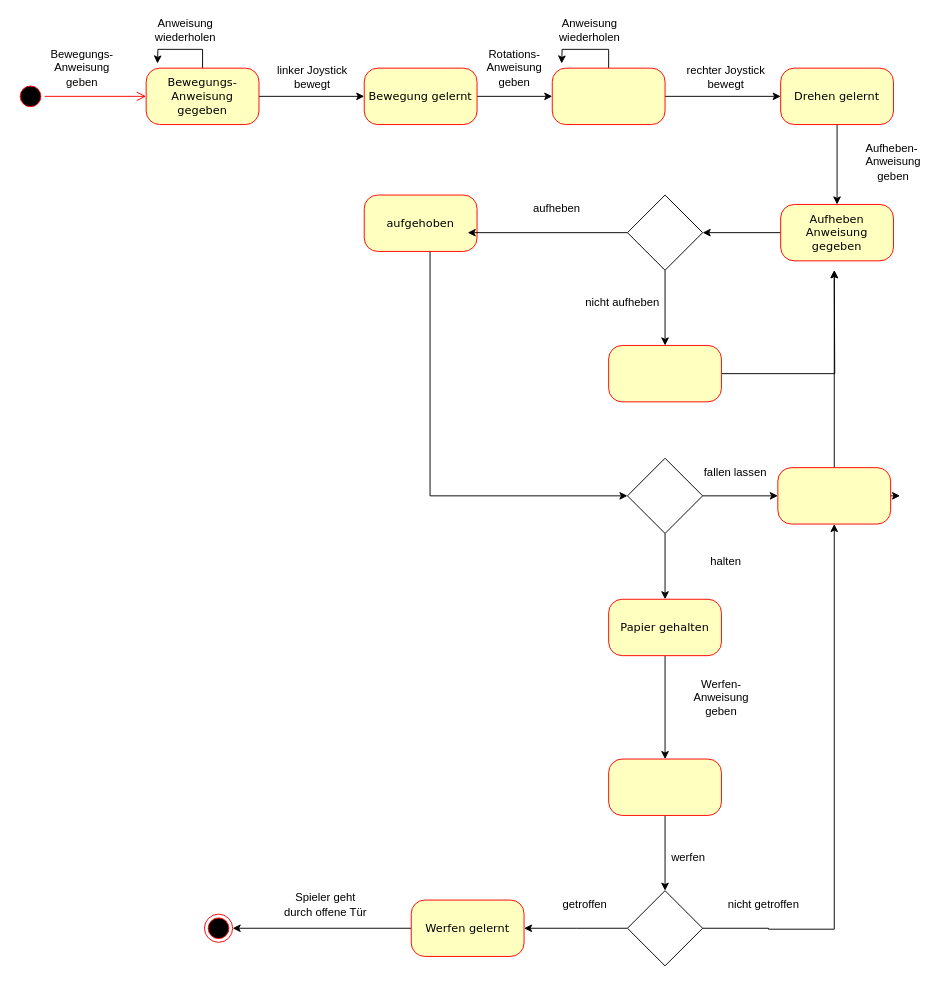
Some shapes in this 938 by 982 pixel diagram are drawn without their labels. The shapes that lost their labels are listed below. From the top down, each one's centre as x and y in pixels, then its label:
At (x=608, y=96): "Rotations-Anweisung gegeben".
At (x=664, y=373): "am Tisch liegend".
At (x=834, y=495): "Papier liegend".
At (x=664, y=786): "Werfen Anweisung gegeben".
